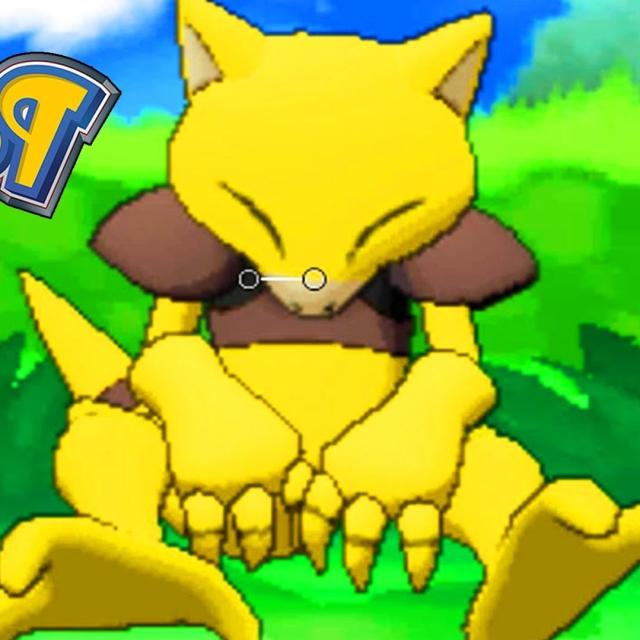Abra: (77, 3, 559, 636)
